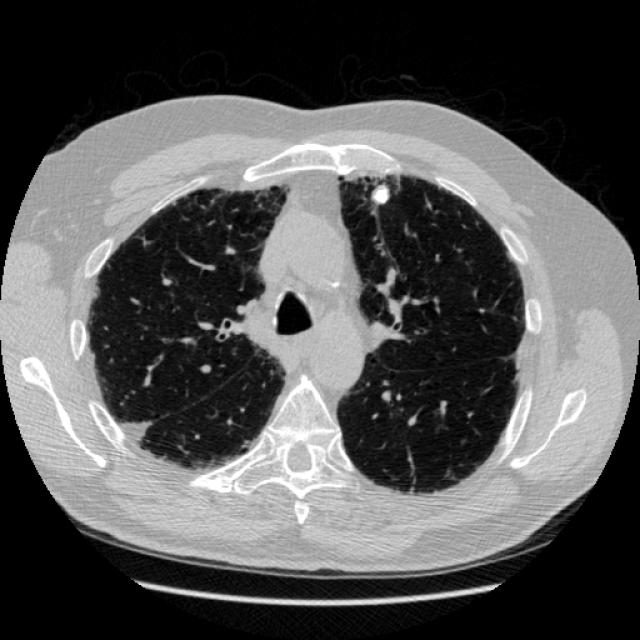nodule: (358, 173, 400, 215)
